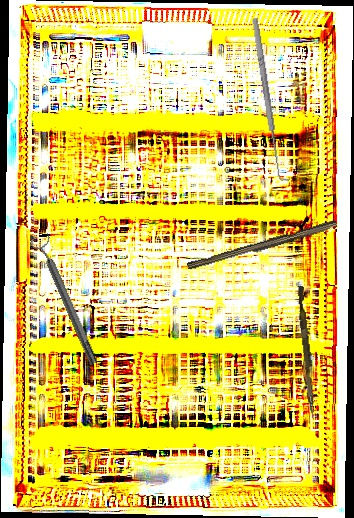Fixation Ring: (28, 232, 104, 369)
Hook Surgical: (249, 15, 291, 184)
Pusher: (294, 285, 320, 420)
Scalpel Handle: (186, 217, 339, 275)
